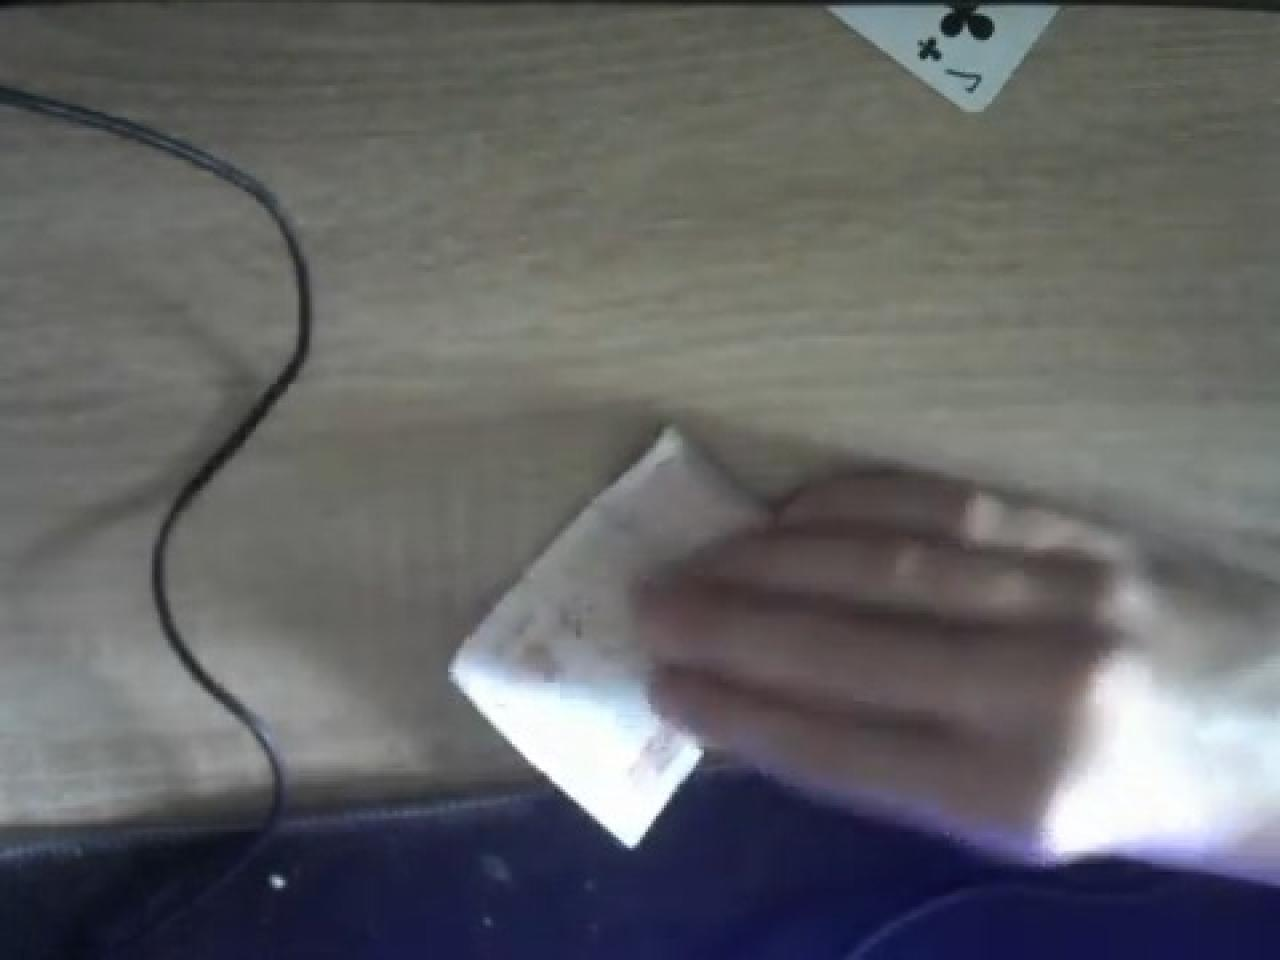5leva: (447, 422, 768, 845)
